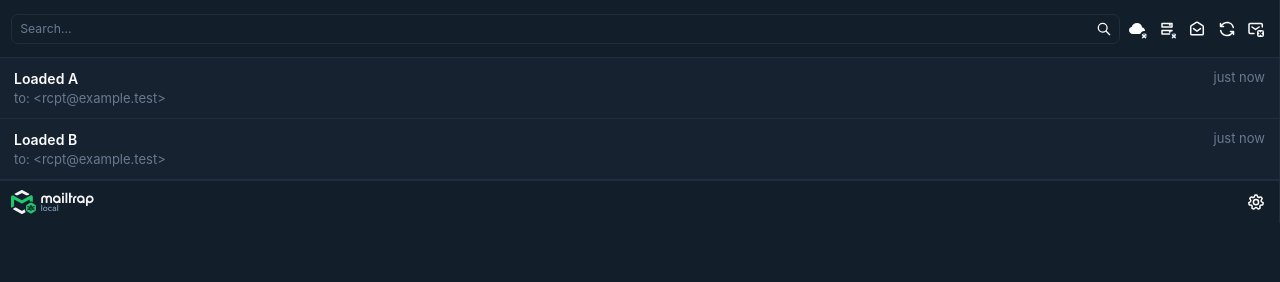
Test: Sidebar › does not decrement the total for a destroyed row that was not loaded
Expected: the text "Loaded A" is shown, [14,70,78,86]
Step 1. Click the button titled "Delete all messages" → (1256, 29), box [1244,16,1268,41]
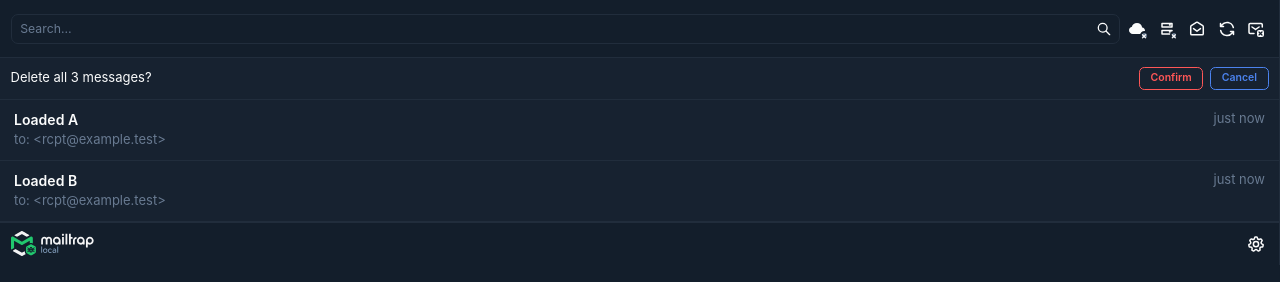
Expected: the text "Delete all 3 messages?" is shown, [10,69,152,85]
